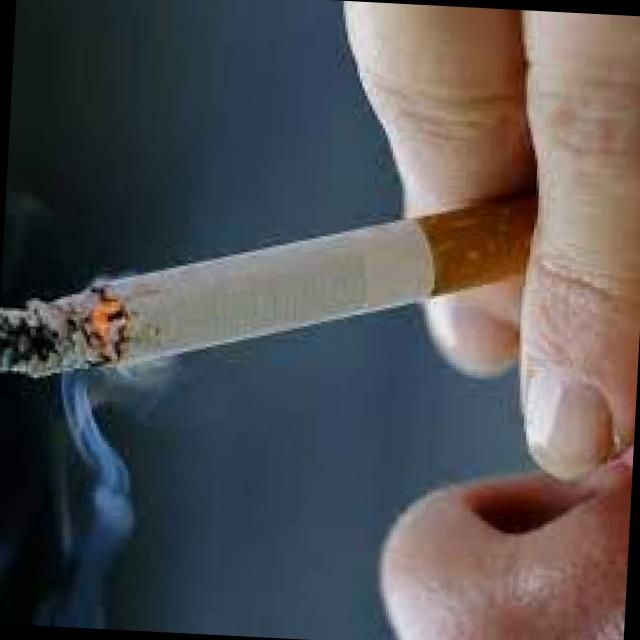smoke: (0, 163, 539, 406)
